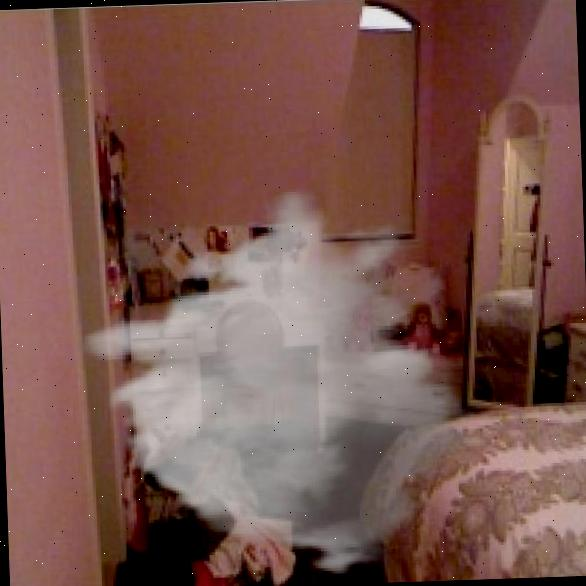smoke: (72, 183, 488, 586)
